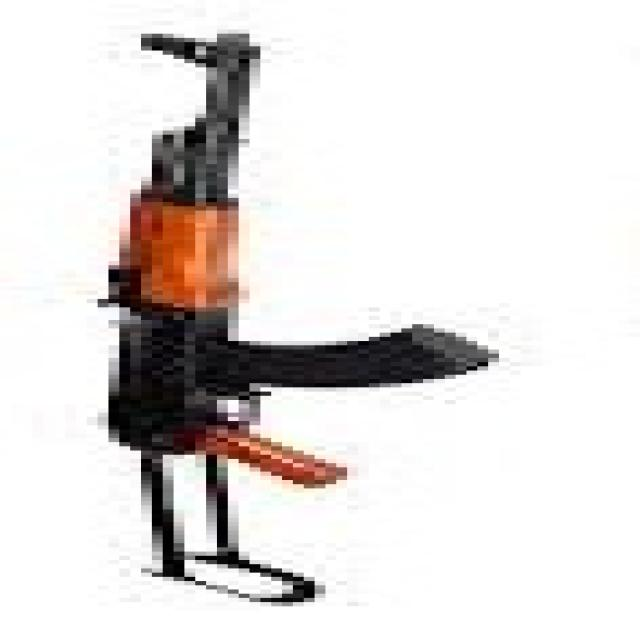rifle: (71, 23, 495, 616)
